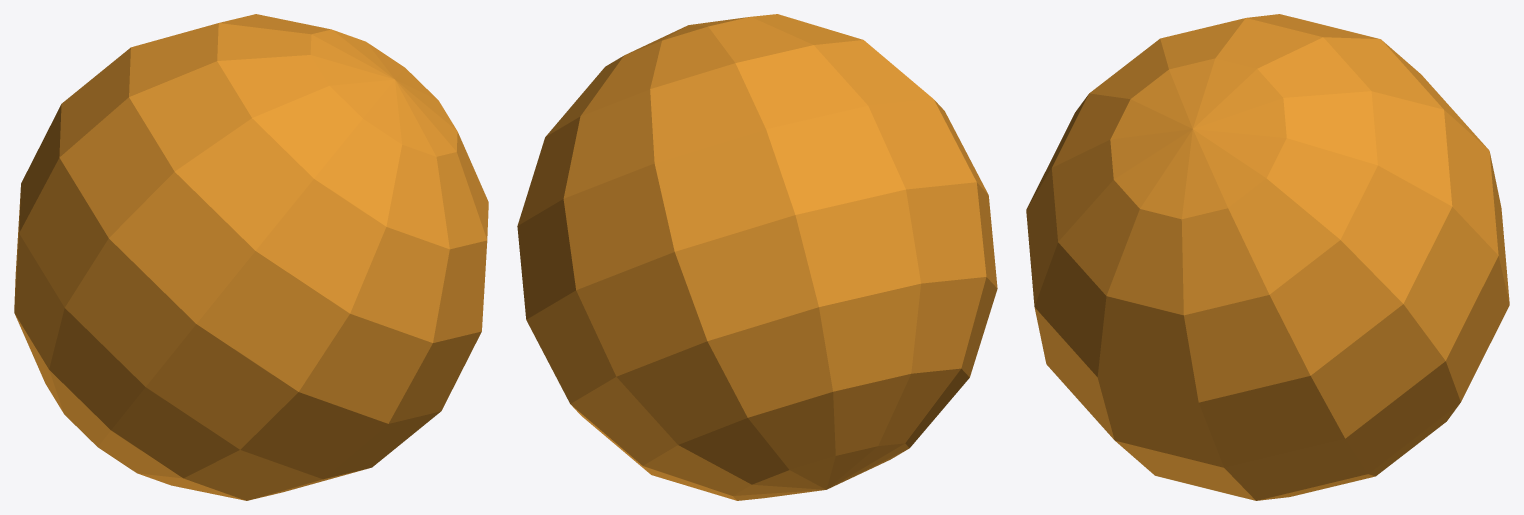
File: orangeBullet.fbx
3 views of the same model, side by side, from view 1: azimuth 30°, elevation 25°; view 2: azimuth 150°, elevation 25°; view 3: azimuth 270°, elevation 25° (orthographic).
Visible parts, largest first — view 1: polySurface760; view 2: polySurface760; view 3: polySurface760.
Boxes of the visible parts, bbox=[...] form: polySurface760: bbox=[14, 14, 488, 500]; polySurface760: bbox=[517, 14, 997, 500]; polySurface760: bbox=[1026, 14, 1509, 500].
Size of the model in its own units: 0.1549 by 0.1536 by 0.1547.
